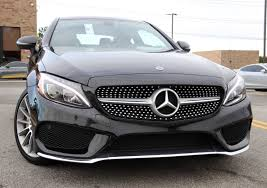cclass: (13, 12, 260, 174)
